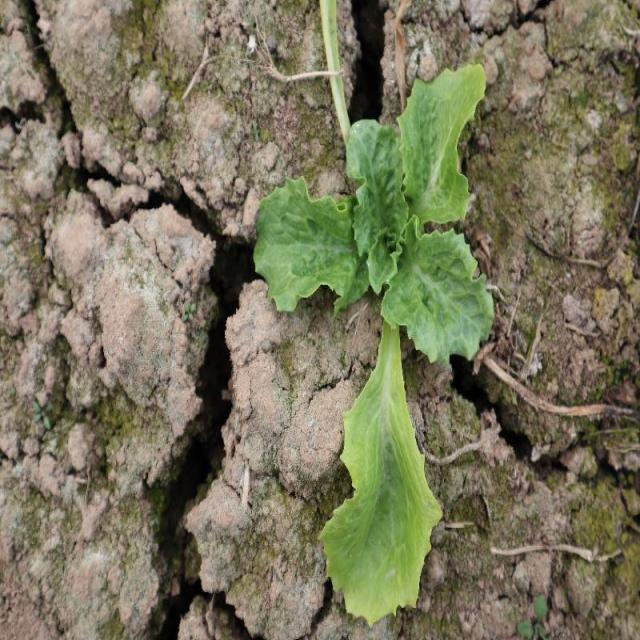crop: (254, 63, 491, 620)
